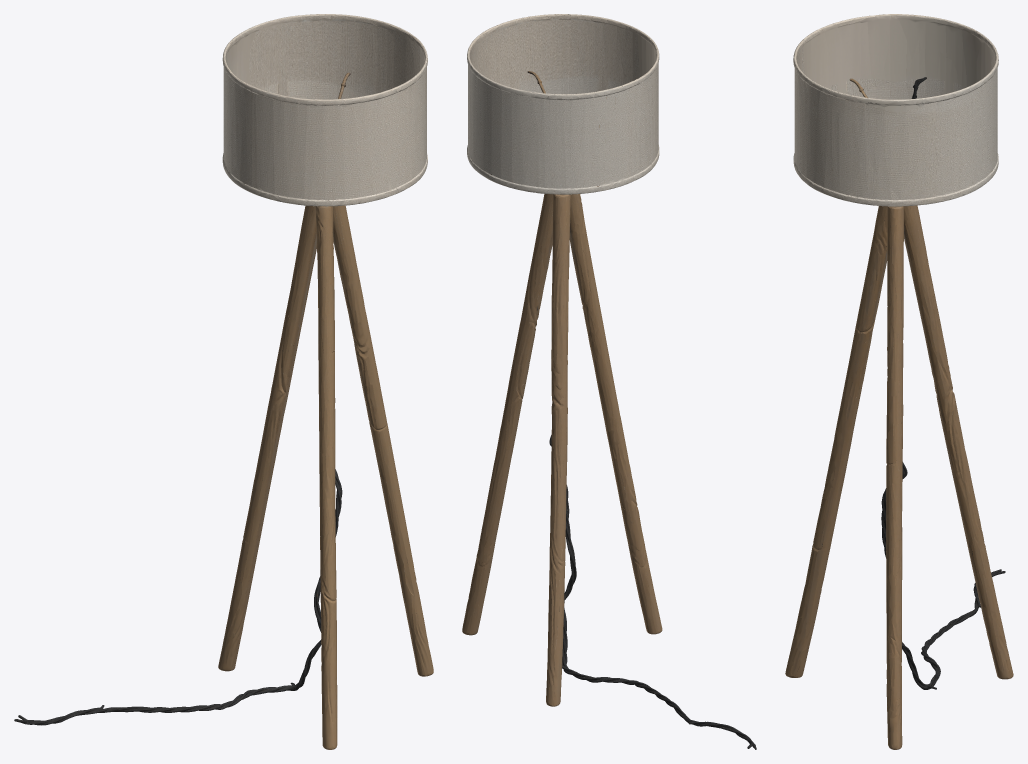
3 views of the same model, side by side, from view 1: azimuth 30°, elevation 25°; view 2: azimuth 150°, elevation 25°; view 3: azimuth 270°, elevation 25° (orthographic). The views are drawn at different scales.
Size of the model in its own units: 1.13 by 1.9 by 0.6128.
1 material, 1 textured.
